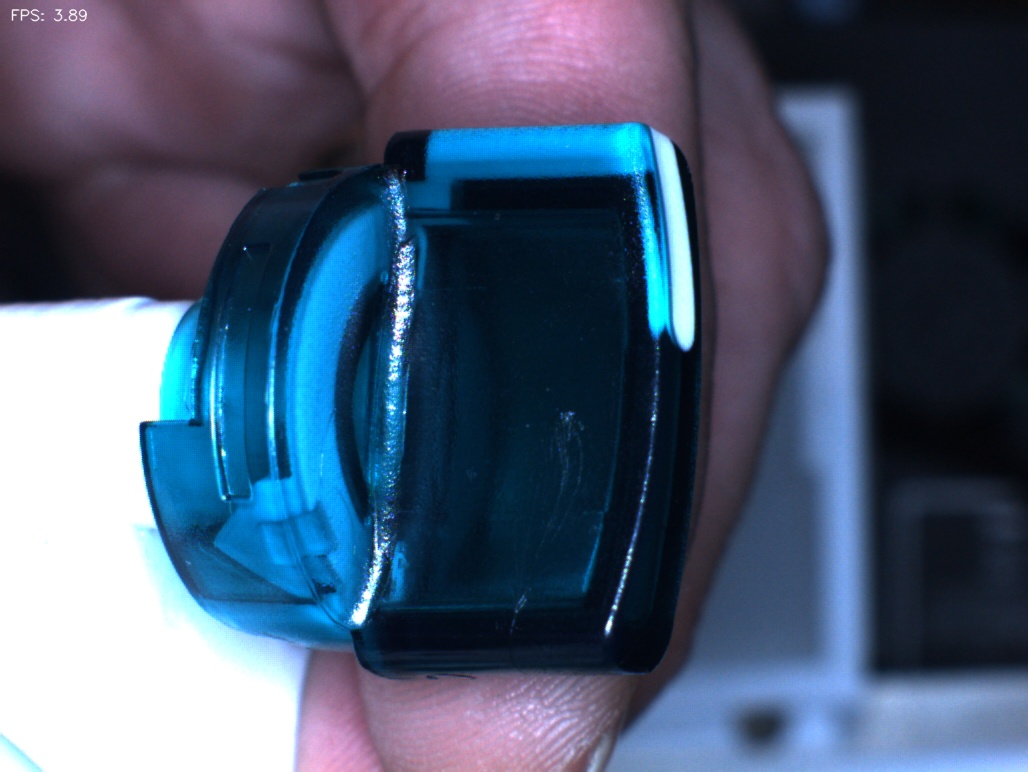Givrage: (487, 394, 597, 637)
